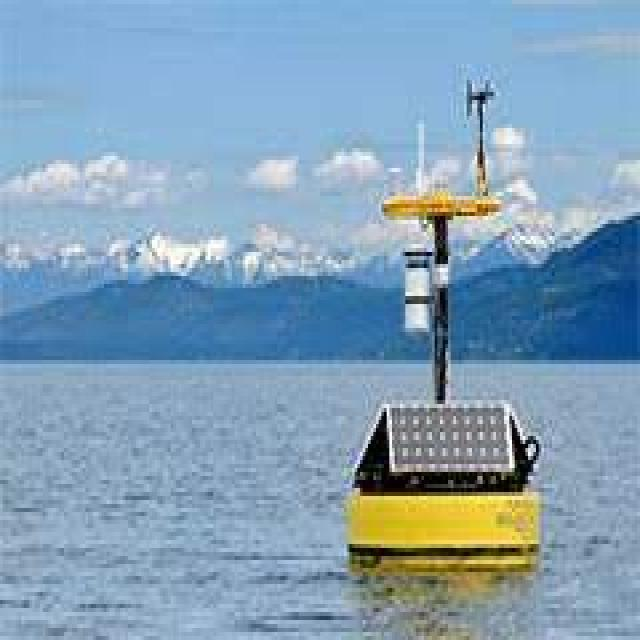marque: (331, 66, 561, 581)
